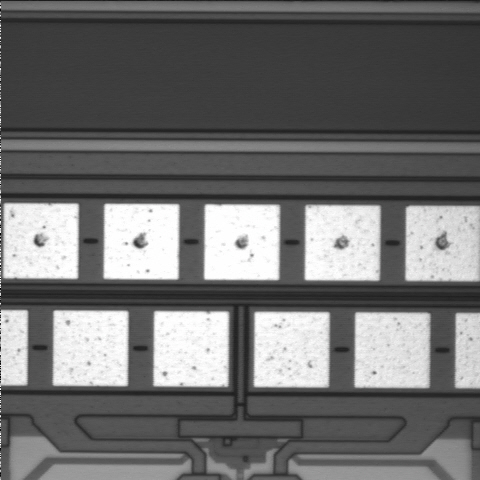pad: (3, 203, 79, 279), (103, 204, 179, 280), (204, 204, 280, 280), (153, 311, 229, 387), (305, 205, 380, 281), (53, 310, 128, 386), (355, 312, 430, 388), (254, 312, 329, 387)
